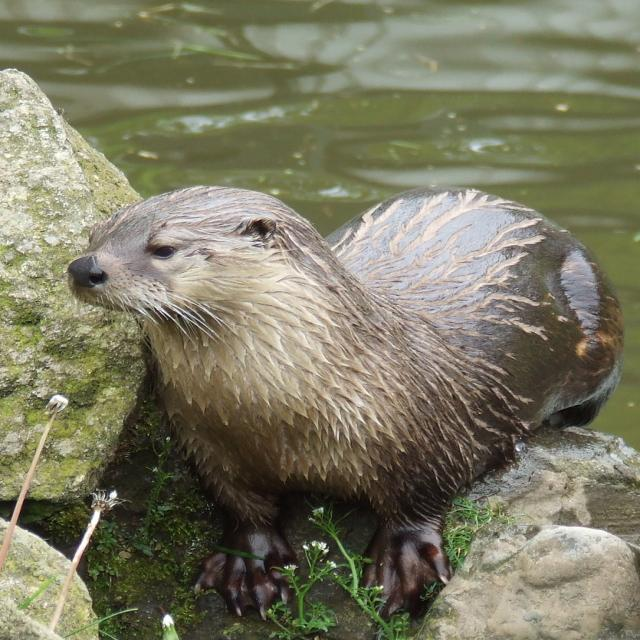otter: (72, 182, 626, 616)
